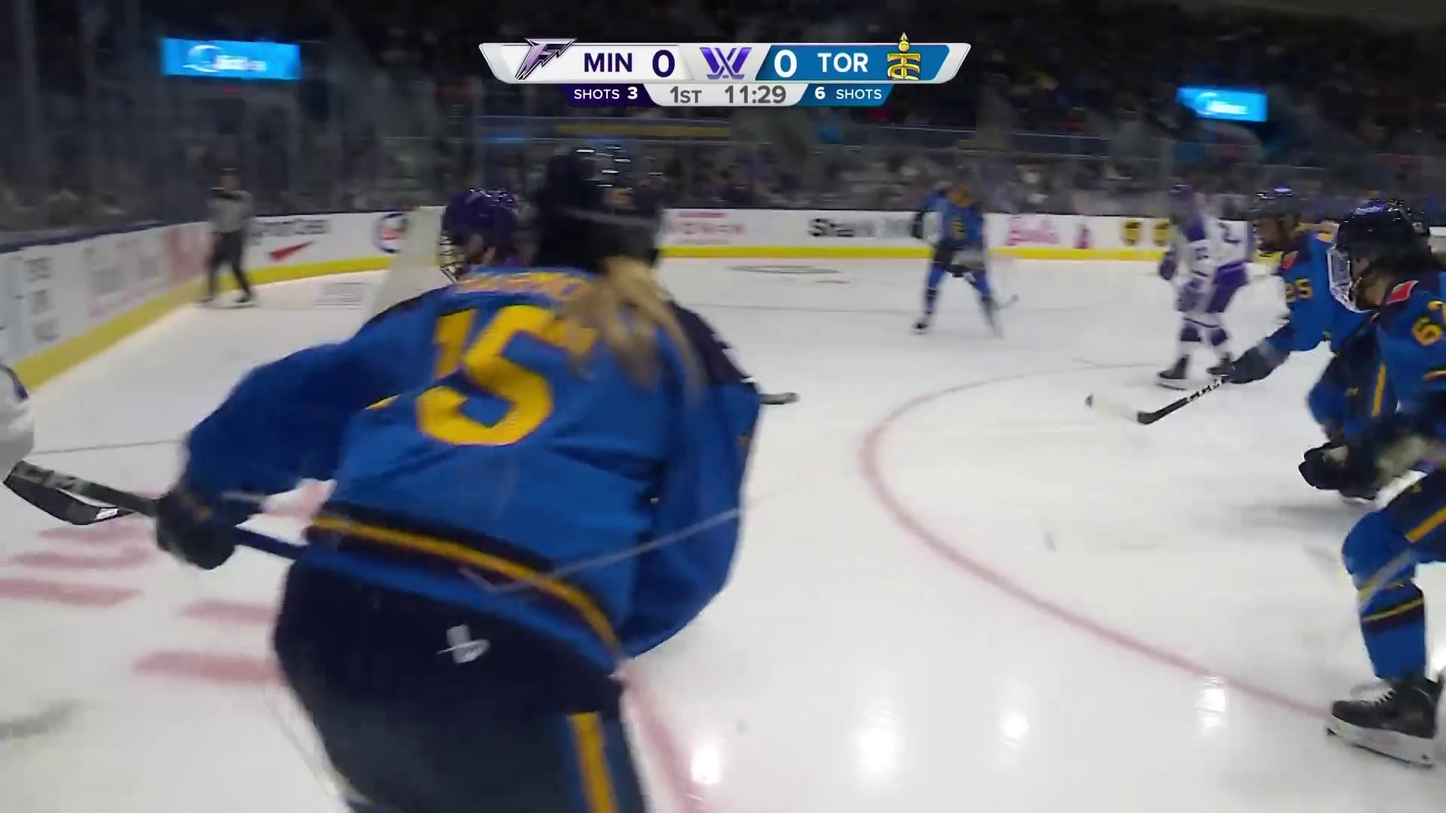player: (147, 141, 778, 803), (907, 164, 1015, 346), (1155, 183, 1250, 388)
